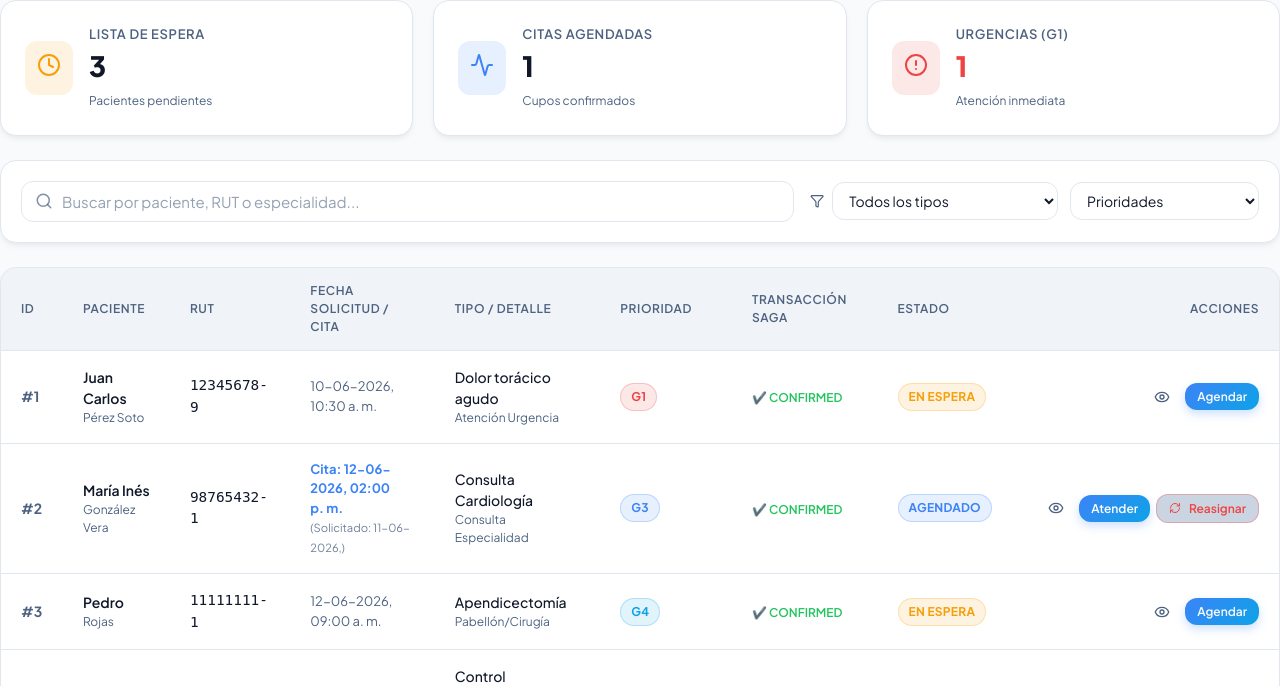
Test: ListaEsperaTable › debe filtrar los datos por prioridad
Seleccionar prioridad 1
Select "G1 - Alta Gravedad" in the 2nd dropdown: (1164, 201) top-left (1070, 182), bottom-right (1259, 220)
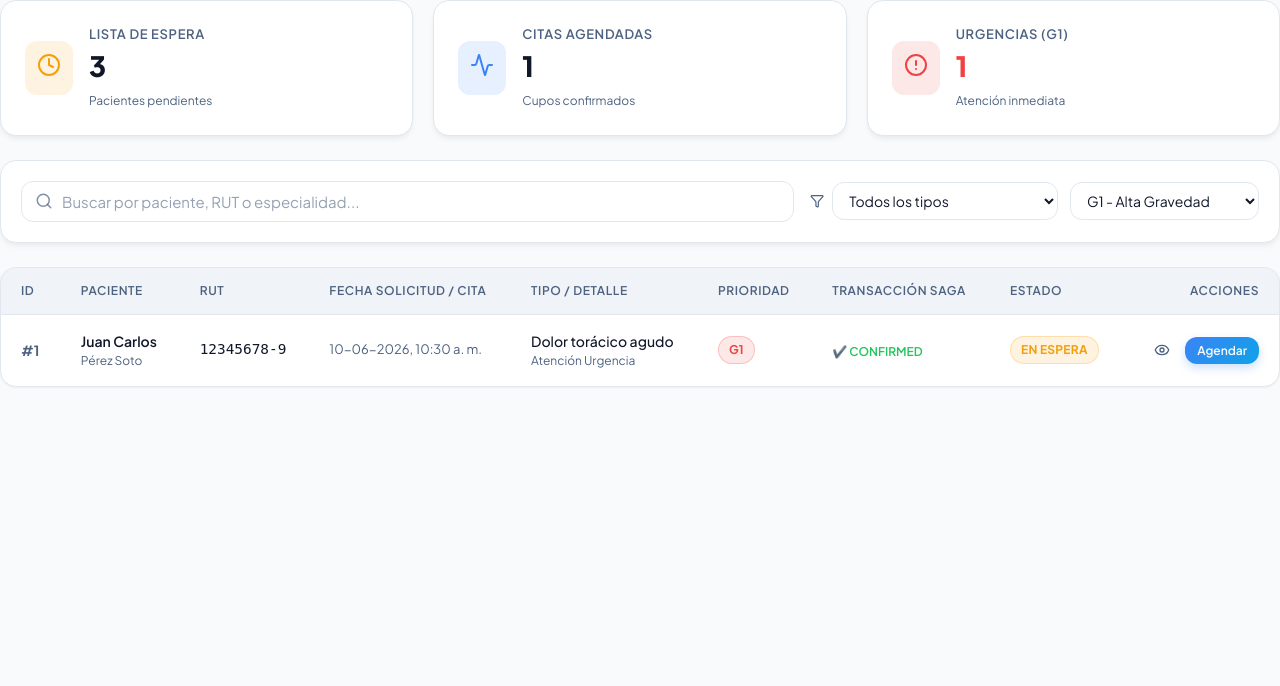
Expected: the text "Juan Carlos" is shown, top-left (81, 330), bottom-right (160, 352)
Expected: the text "María Inés" is gone
